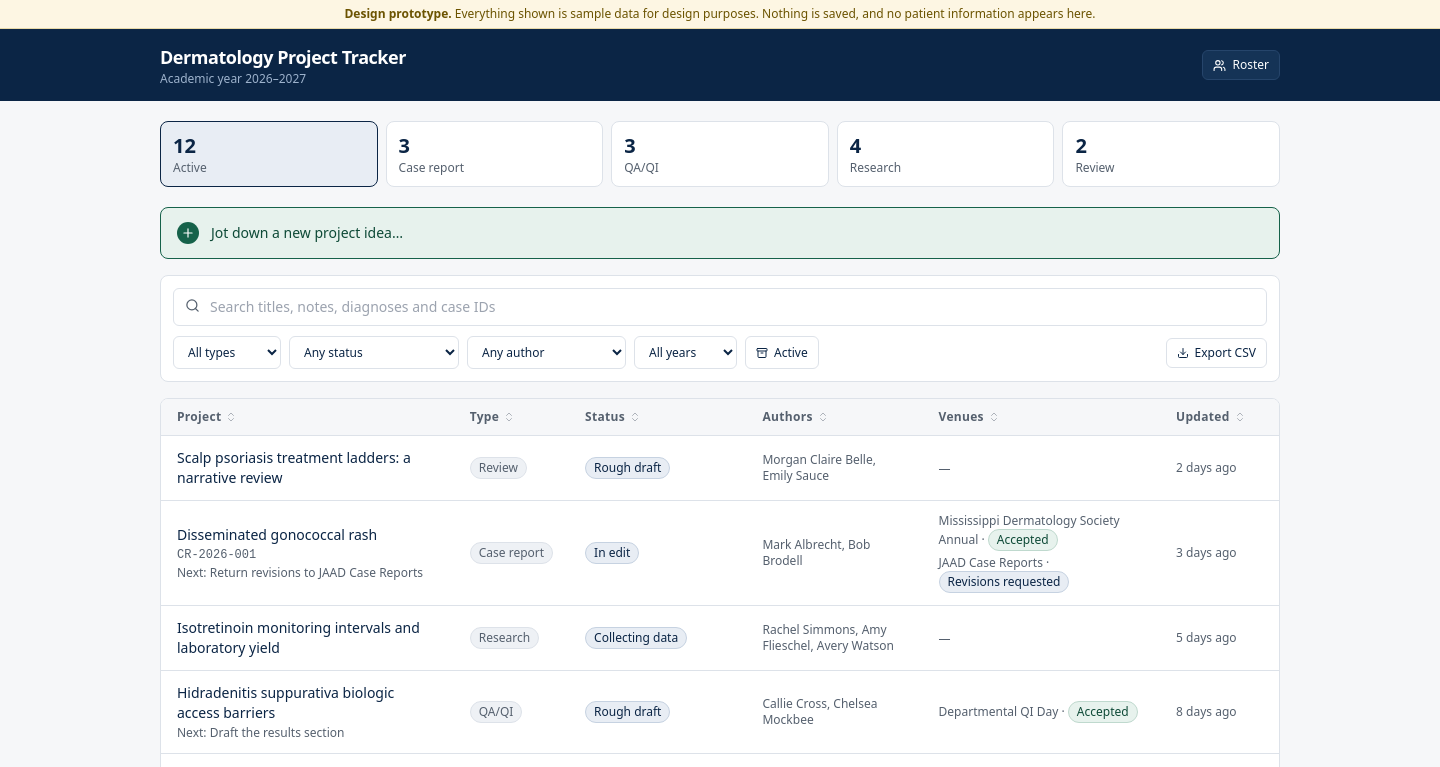
the active / archived / both control › cycles through all three states
The image size is (1440, 767).
Click the button "Active". click: (782, 352)
box: 745,336 -> 819,369
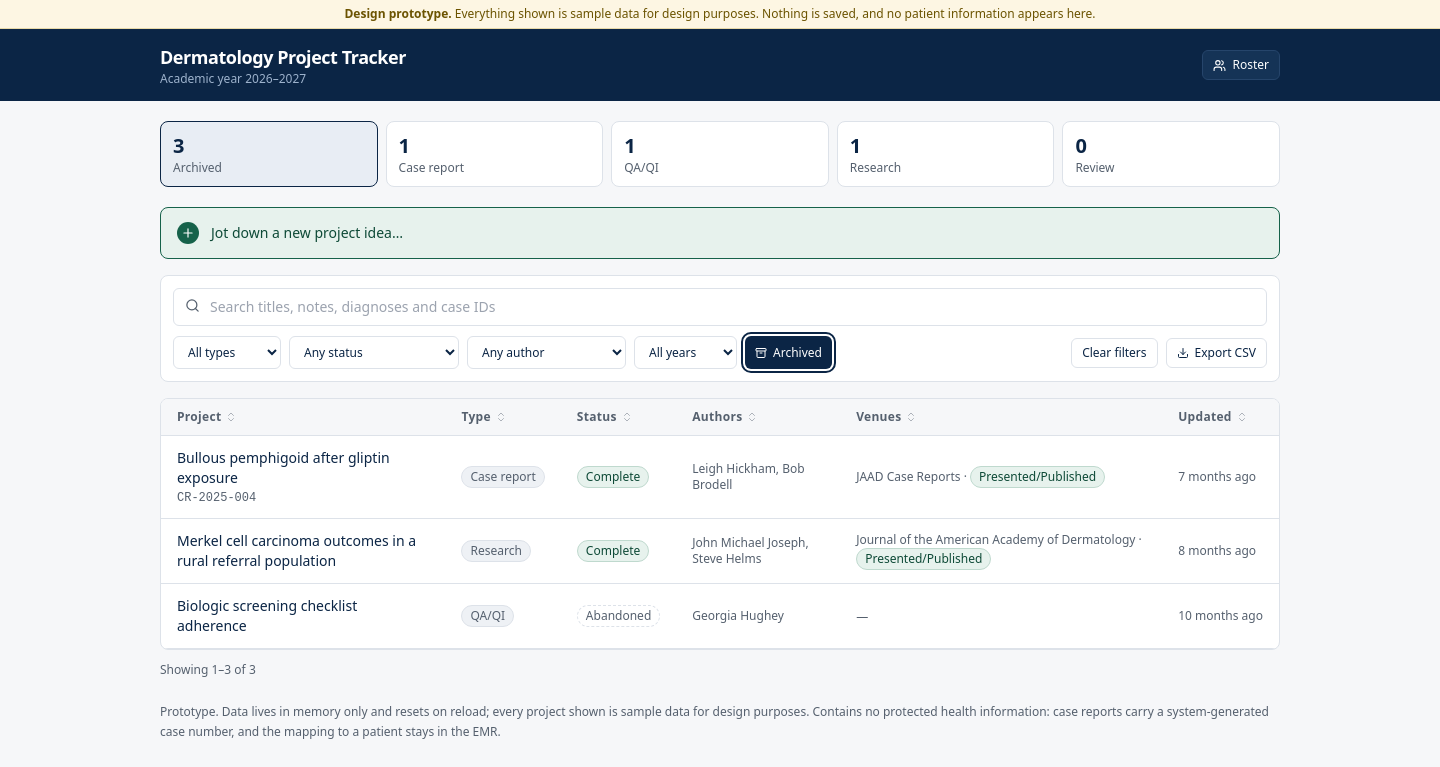
Now the button "Archived" is shown
Click the button "Archived". click: (788, 352)
box: 745,336 -> 832,369
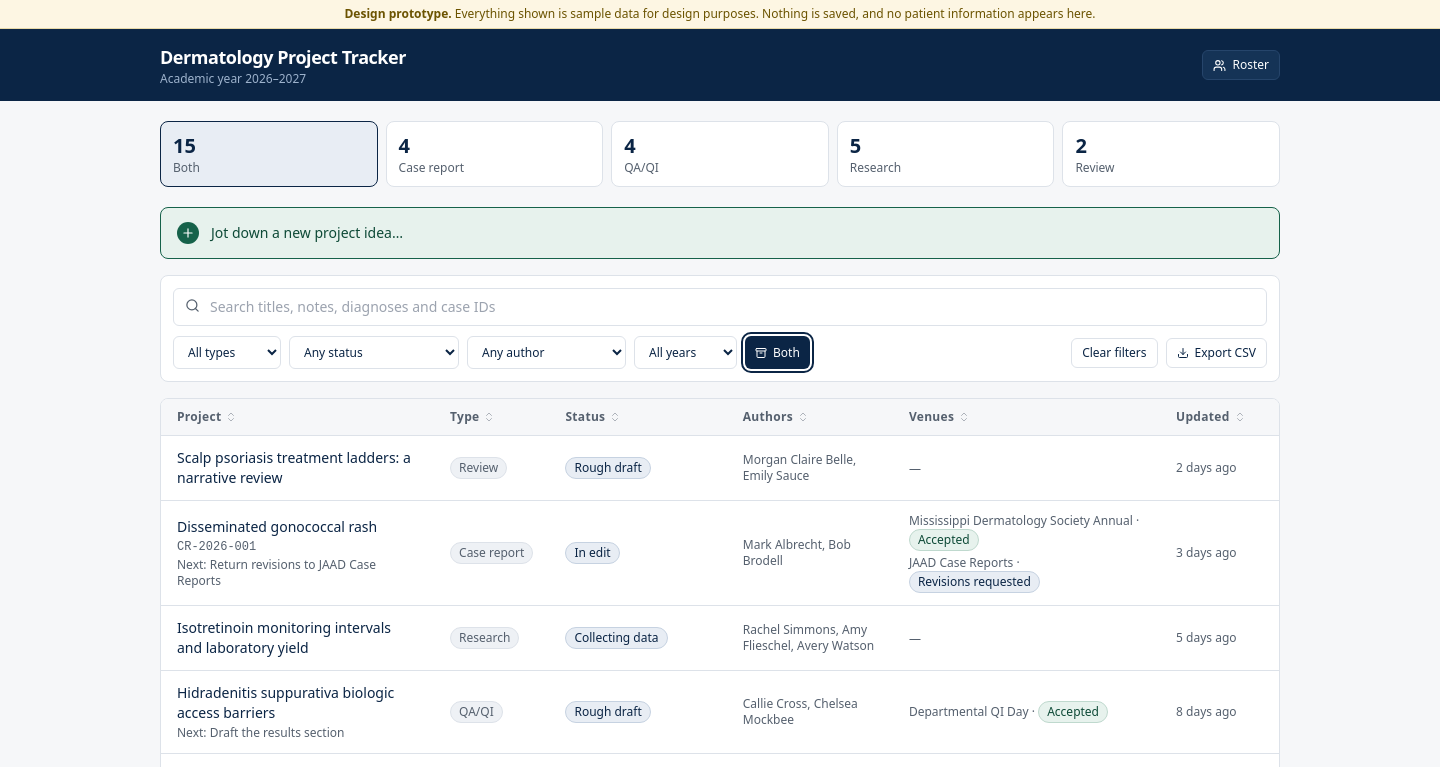
Now the button "Both" is shown
Click the button "Both". click: (777, 352)
box: 745,336 -> 810,369
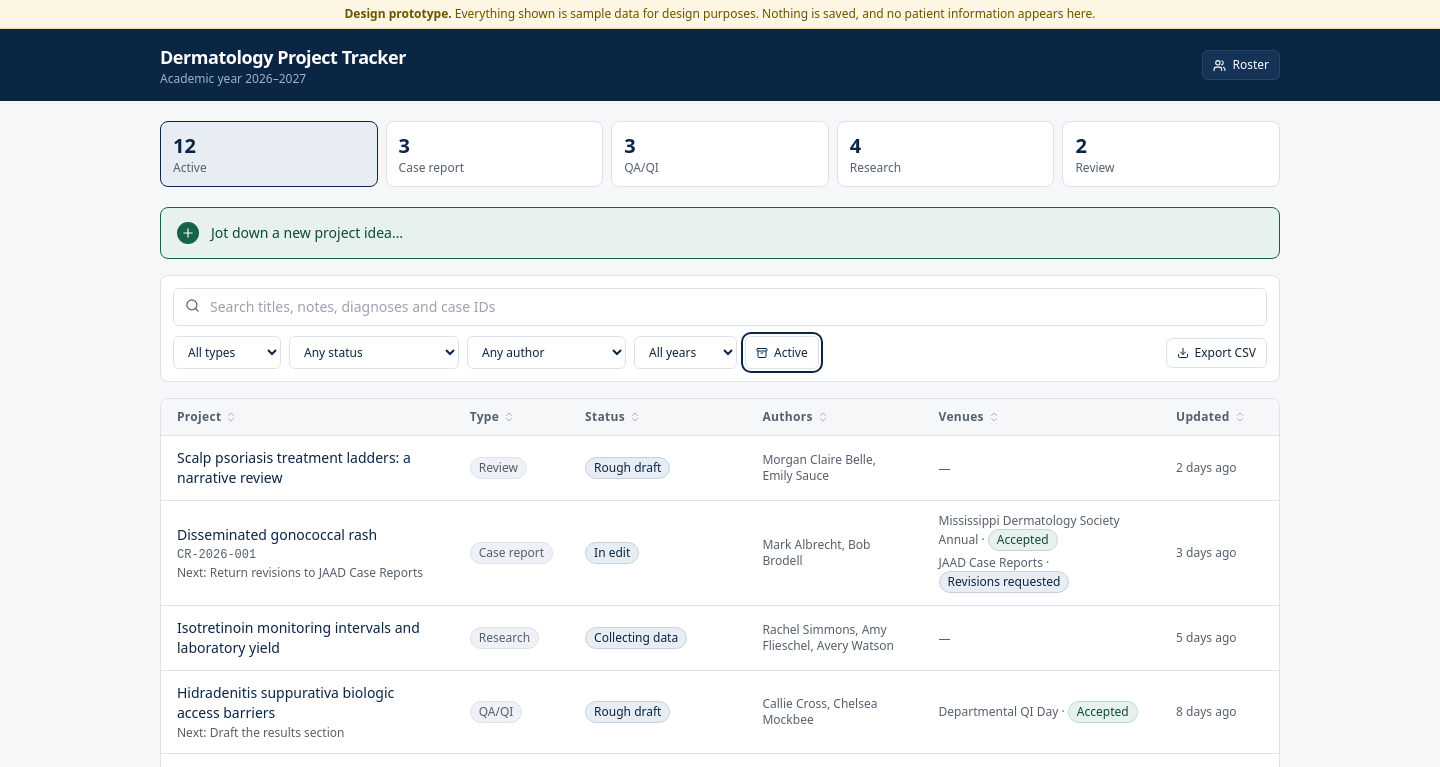
Now the button "Active" is shown, box 745,336 -> 819,369
